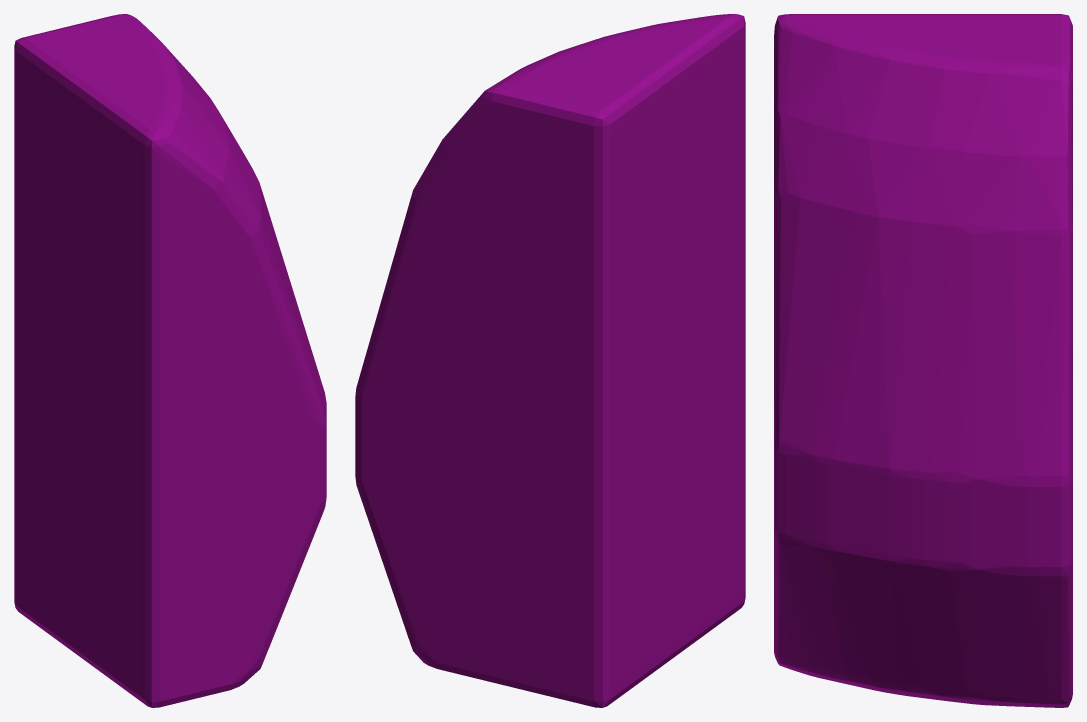
File: right_hip_roll_link_part_14.obj
3 renders of one model, left to right at view 1: azimuth 30°, elevation 25°; view 2: azimuth 150°, elevation 25°; view 3: azimuth 270°, elevation 25°, orthographic. The views are drawn at different scales.
Bounding box in the file's own units: 0.0336 × 0.0752 × 0.0334.
